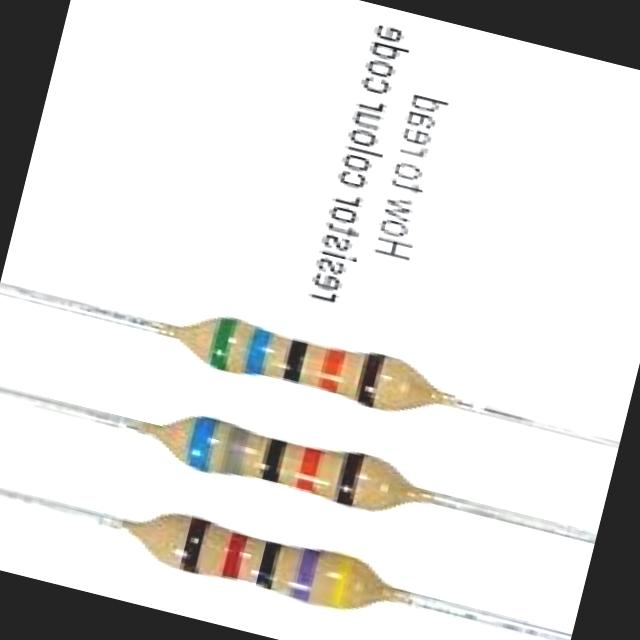Resistor: (154, 415, 418, 509), (173, 317, 442, 409), (126, 514, 380, 608)
black: (179, 512, 210, 573), (333, 449, 363, 510), (360, 353, 384, 409), (257, 540, 278, 594), (283, 336, 306, 382), (264, 438, 282, 483)
blue: (183, 416, 218, 473), (242, 323, 271, 380)
gray: (224, 428, 248, 474)
purple: (290, 548, 317, 601)
red: (293, 445, 324, 493), (220, 530, 246, 581), (320, 346, 343, 394)
yellow: (330, 554, 356, 609)
